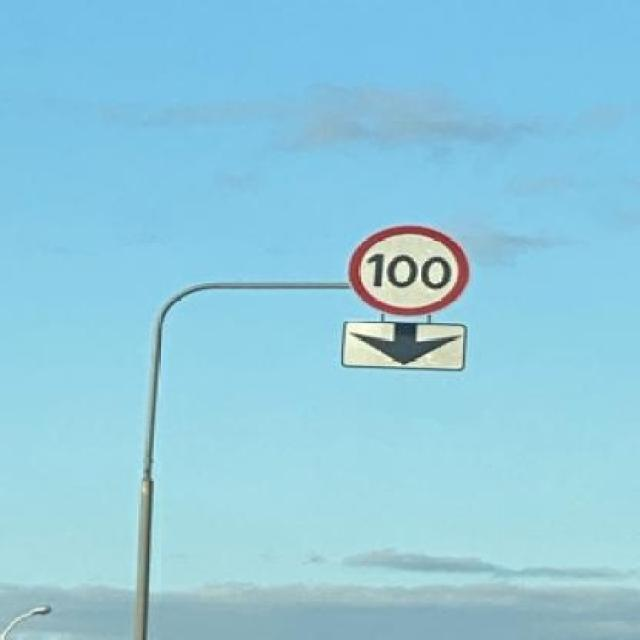forb_speed_over_100: (345, 222, 473, 316)
